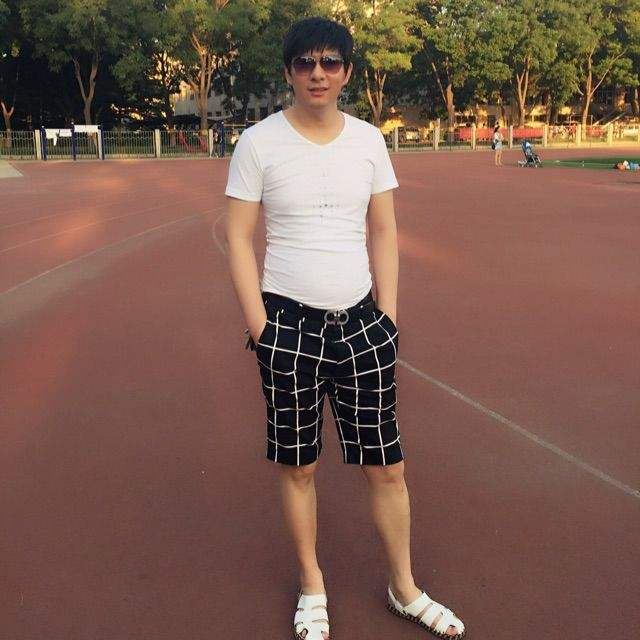person: (211, 24, 487, 640)
